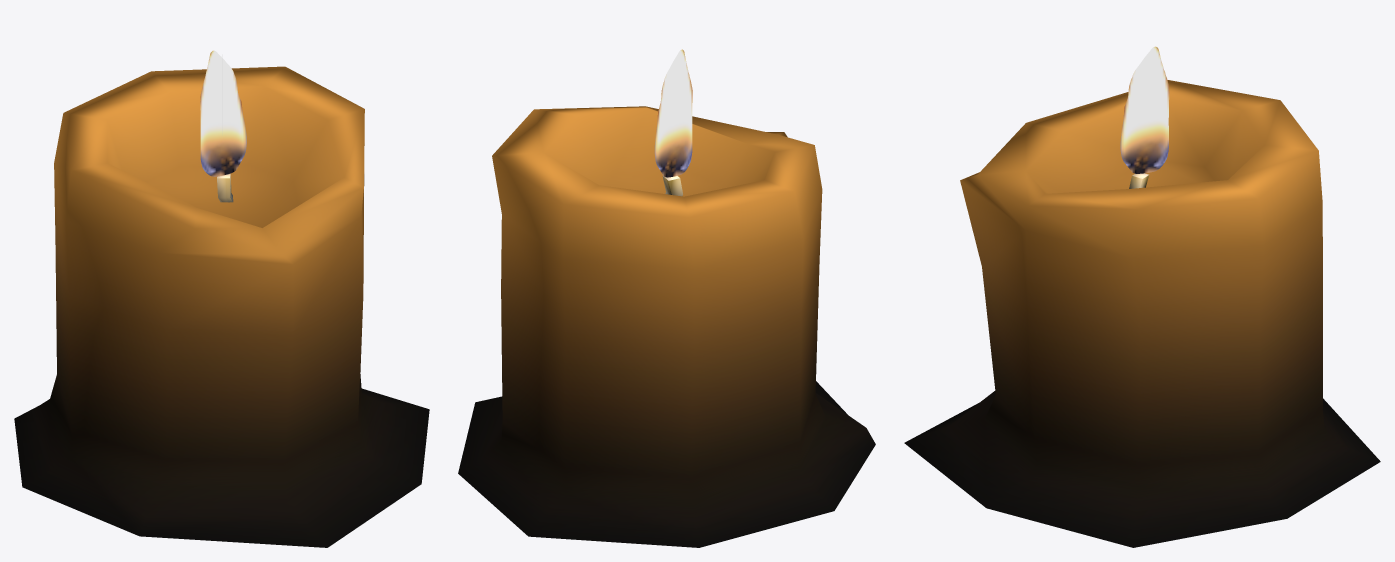
File: CandleShapeC.028.glb
The picture shows the model from 3 angles, left to right: view 1: azimuth 30°, elevation 25°; view 2: azimuth 150°, elevation 25°; view 3: azimuth 270°, elevation 25°; orthographic projection.
Parts seen in each view (by area): view 1: CandleShapeC.028; view 2: CandleShapeC.028; view 3: CandleShapeC.028.
Part boxes in pixels (left/top/right/bottom): CandleShapeC.028: left=14, top=50, right=429, bottom=547; CandleShapeC.028: left=458, top=49, right=875, bottom=547; CandleShapeC.028: left=904, top=46, right=1380, bottom=547.
Bounding box in the file's own units: 0.1734 × 0.1799 × 0.1889.
2 materials, 2 textured.
